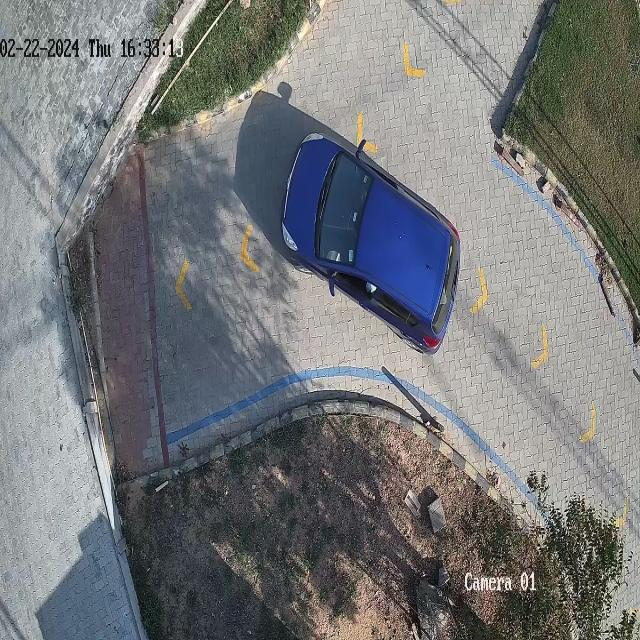car: (281, 133, 460, 352)
